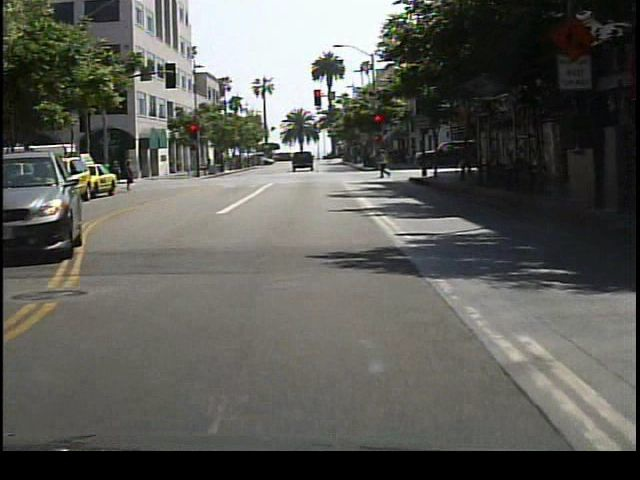person: (458, 138, 478, 180), (376, 148, 393, 179), (124, 157, 138, 192)
